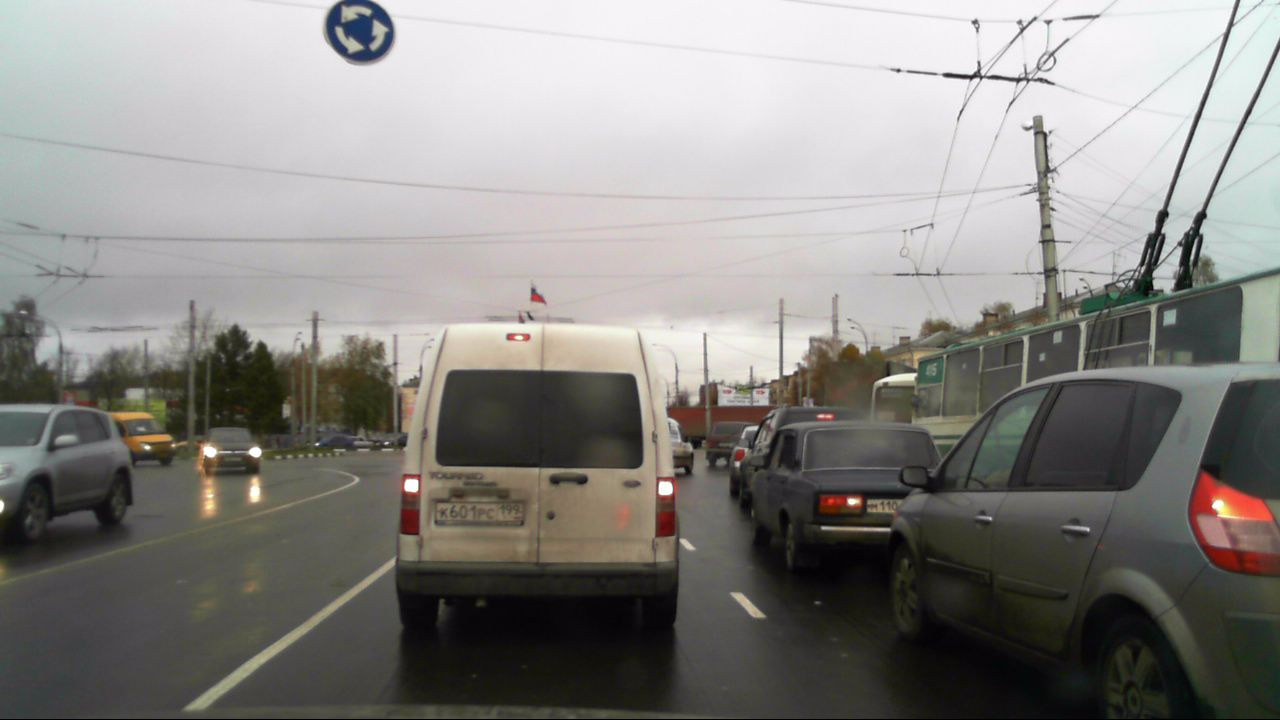Round-About: (322, 0, 396, 66)
